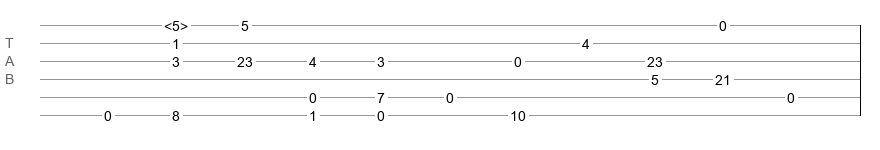0: (104, 108, 112, 118), (309, 90, 317, 100), (377, 108, 385, 118), (446, 90, 454, 100), (514, 54, 522, 64), (719, 18, 727, 28), (787, 90, 795, 100)
1: (172, 36, 180, 46), (309, 108, 317, 118)
10: (510, 108, 526, 118)
21: (715, 72, 731, 82)
23: (237, 54, 253, 64), (647, 54, 663, 64)
3: (172, 54, 180, 64), (377, 54, 385, 64)
4: (309, 54, 317, 64), (582, 36, 590, 46)
5: (241, 18, 249, 28), (651, 72, 659, 82)
7: (377, 90, 385, 100)
8: (172, 108, 180, 118)
harmonic: (164, 18, 188, 28)
